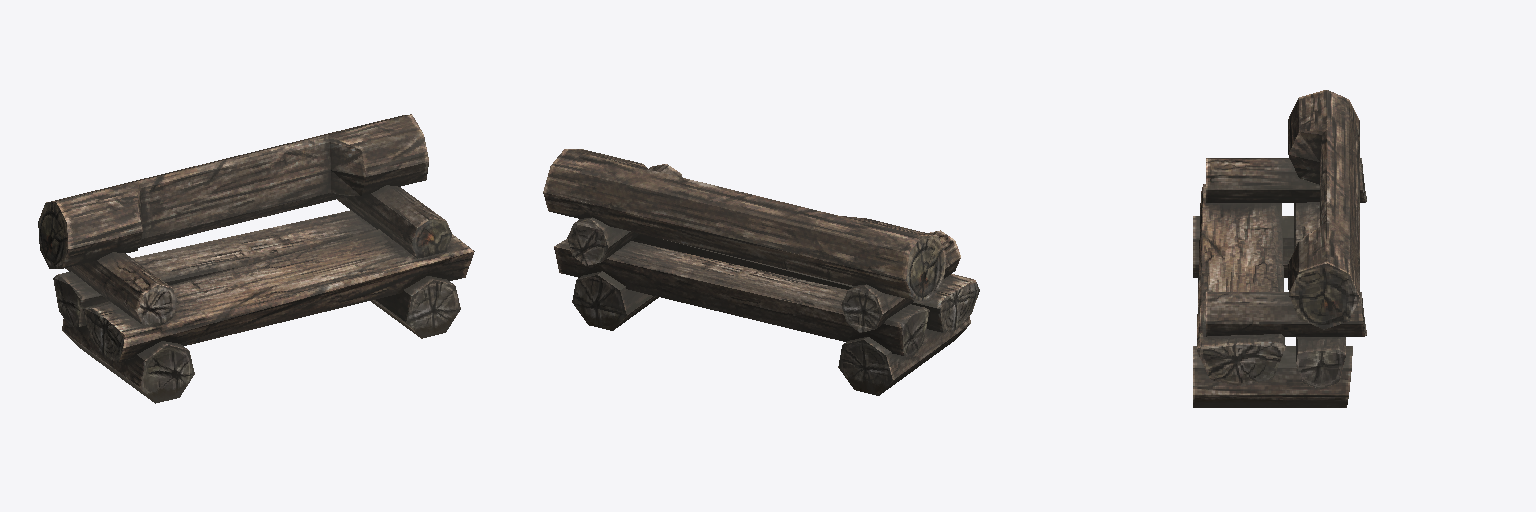
The picture shows the model from 3 angles: view 1: azimuth 30°, elevation 25°; view 2: azimuth 150°, elevation 25°; view 3: azimuth 270°, elevation 25°; orthographic projection.
Parts seen in each view (by area): view 1: bench; view 2: bench; view 3: bench.
Part boxes in pixels (left/top/right/bottom): bench: left=38, top=114, right=474, bottom=403; bench: left=543, top=149, right=979, bottom=395; bench: left=1193, top=90, right=1366, bottom=407.
Size of the model in its own units: 2.01 by 0.8337 by 0.8207.
1 materials, 1 textured.